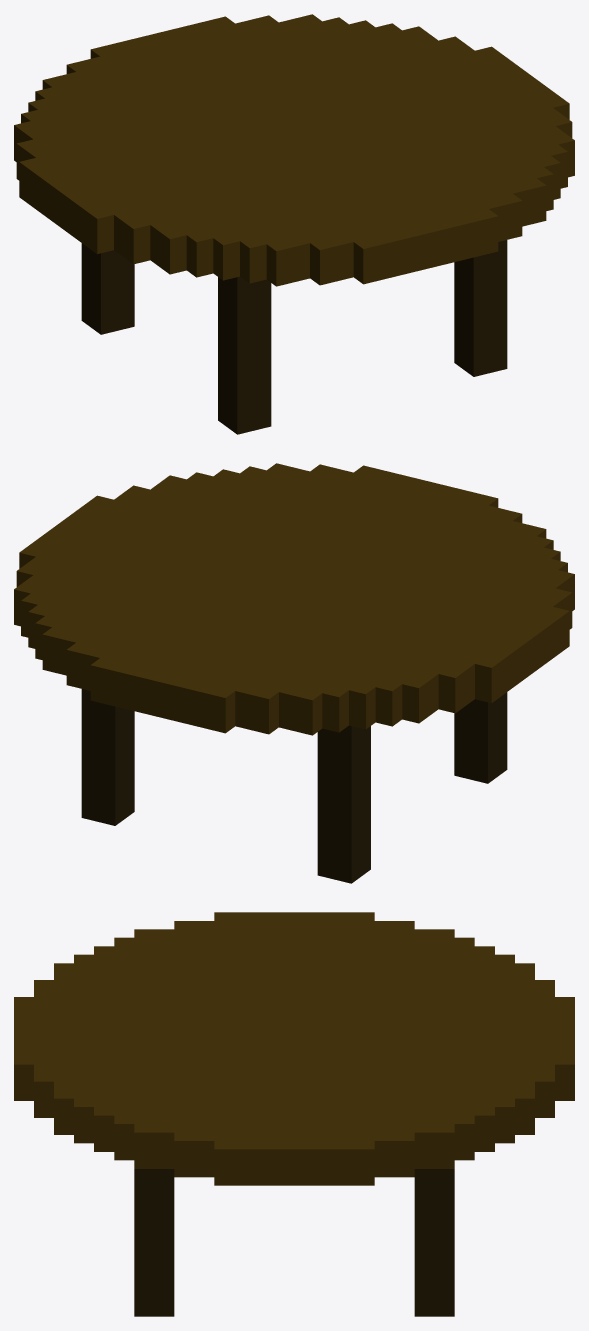
The model's file is Table.fbx.
3 views of the same model, one above another, from view 1: azimuth 30°, elevation 25°; view 2: azimuth 150°, elevation 25°; view 3: azimuth 270°, elevation 25° (orthographic). The views are drawn at different scales.
Parts seen in each view (by area): view 1: Cylinder; view 2: Cylinder; view 3: Cylinder.
Part boxes in pixels (x1,y1,x2,y2): Cylinder: [14, 14, 574, 434]; Cylinder: [14, 463, 574, 883]; Cylinder: [14, 912, 574, 1316].
Bounding box in the file's own units: 28 × 12 × 28.
1 material, 1 textured.
